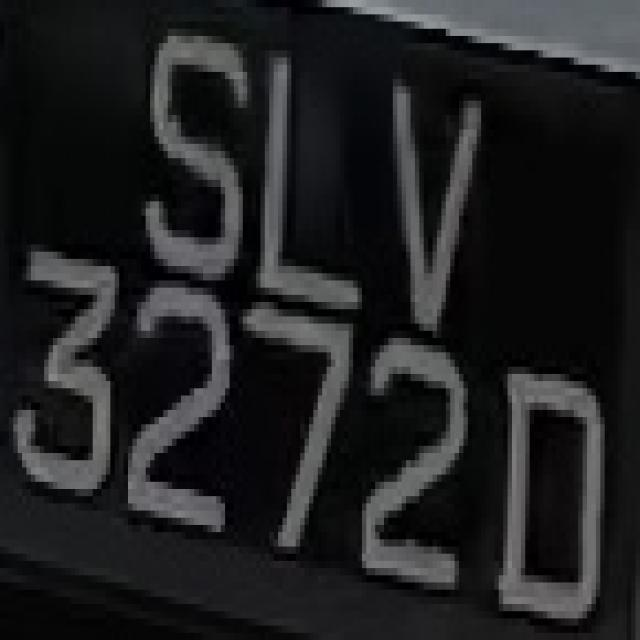2: (340, 324, 485, 604)
3: (13, 216, 137, 532), (132, 287, 248, 554)
7: (252, 280, 366, 590)
D: (498, 346, 609, 630), (4, 4, 4, 7)
L: (247, 22, 375, 338)
S: (141, 22, 247, 309)
V: (380, 65, 503, 338)
